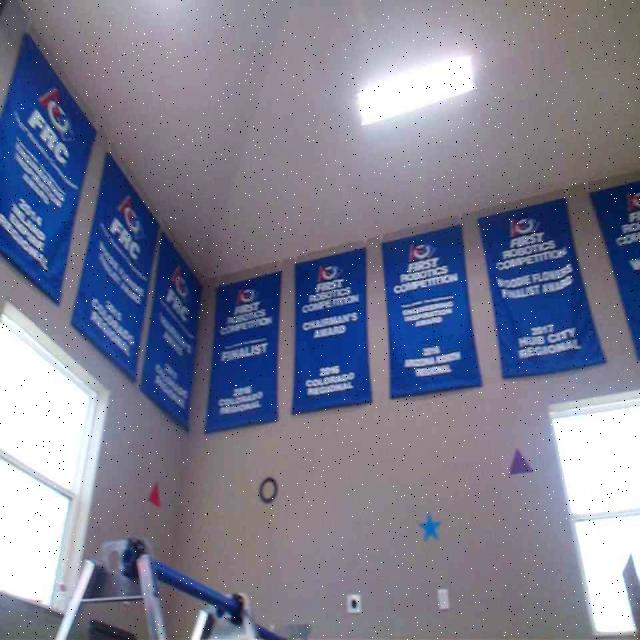ring_black: (257, 476, 278, 503)
star_blue: (417, 511, 440, 542)
triangle_purple: (508, 446, 532, 475)
triangle_red: (147, 481, 161, 505)
